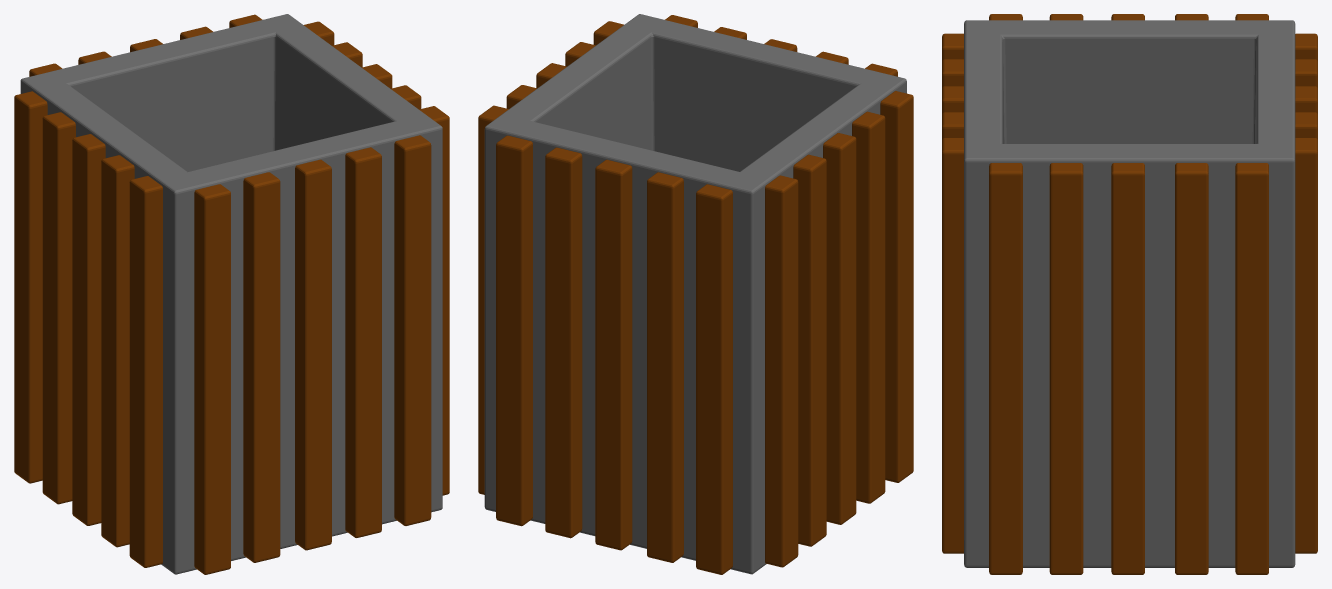
The model's file is Trashcan.fbx.
3 renders of one model, left to right at view 1: azimuth 30°, elevation 25°; view 2: azimuth 150°, elevation 25°; view 3: azimuth 270°, elevation 25°, orthographic. The views are drawn at different scales.
Parts seen in each view (by area): view 1: Куб; view 2: Куб; view 3: Куб.
Part boxes in pixels (left/top/right/bottom): Куб: left=14, top=14, right=449, bottom=574; Куб: left=478, top=14, right=913, bottom=574; Куб: left=942, top=14, right=1317, bottom=574.
Size of the model in its own units: 620 by 744 by 619.
